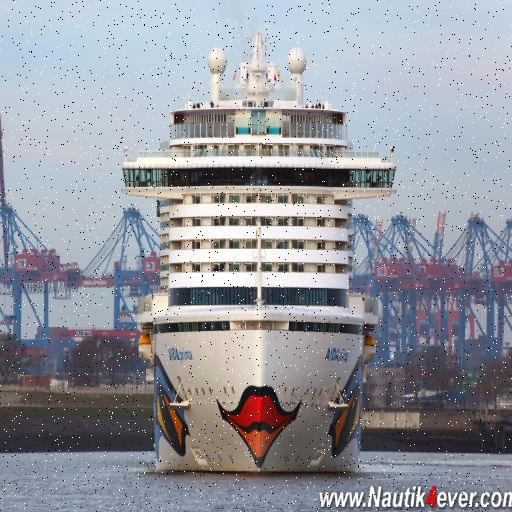cruises: (101, 22, 400, 485)
